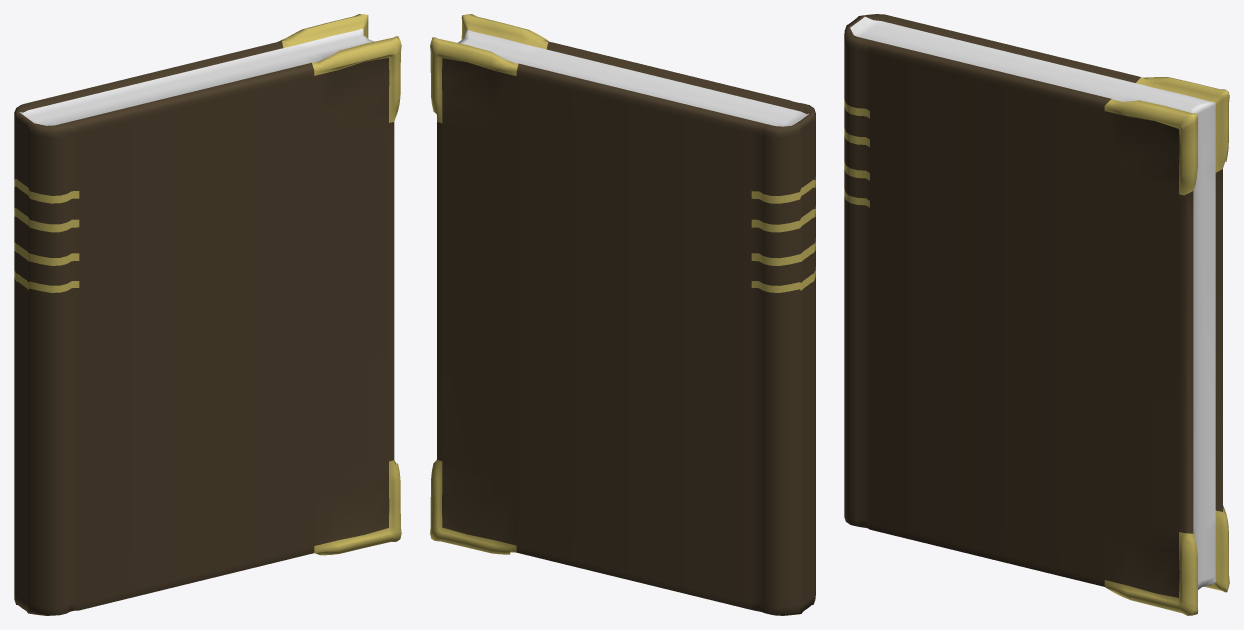
Rendered from book.glb.
The picture shows the model from 3 angles, left to right: view 1: azimuth 30°, elevation 25°; view 2: azimuth 150°, elevation 25°; view 3: azimuth 330°, elevation 25°; orthographic projection.
Visible parts, largest first — view 1: Book; view 2: Book; view 3: Book.
Part boxes in pixels (x1,y1,x2,y2): Book: (14, 14, 401, 615); Book: (430, 14, 815, 615); Book: (844, 14, 1229, 615).
Bounding box in the file's own units: 6.31 × 8.37 × 1.28.
